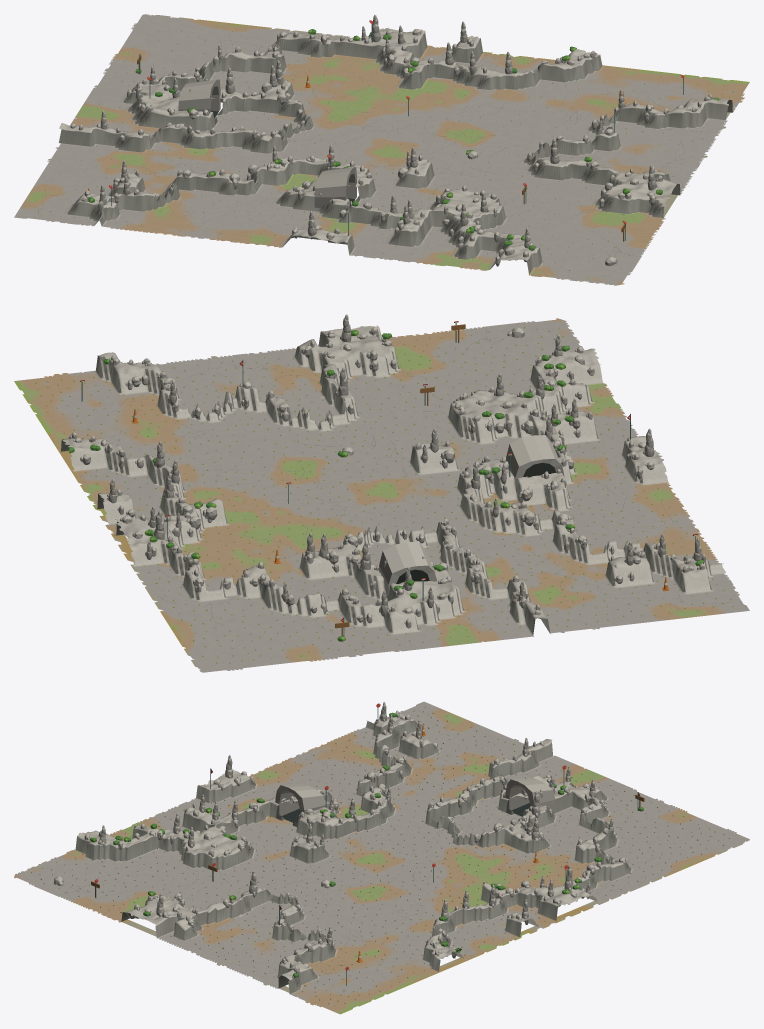
File: terrain-props.glb
3 views of the same model, one above another, from view 1: azimuth 30°, elevation 25°; view 2: azimuth 150°, elevation 25°; view 3: azimuth 270°, elevation 25° (orthographic). The views are drawn at different scales.
Visible parts, largest first — view 1: HM14-source-adapted-terrain-props; view 2: HM14-source-adapted-terrain-props; view 3: HM14-source-adapted-terrain-props.
Boxes of the visible parts, x1,y1,x2,y2 form: HM14-source-adapted-terrain-props: (14,14,749,285); HM14-source-adapted-terrain-props: (14,314,749,672); HM14-source-adapted-terrain-props: (14,701,749,1014).
Bounding box in the file's own units: 106 × 6.69 × 106.
